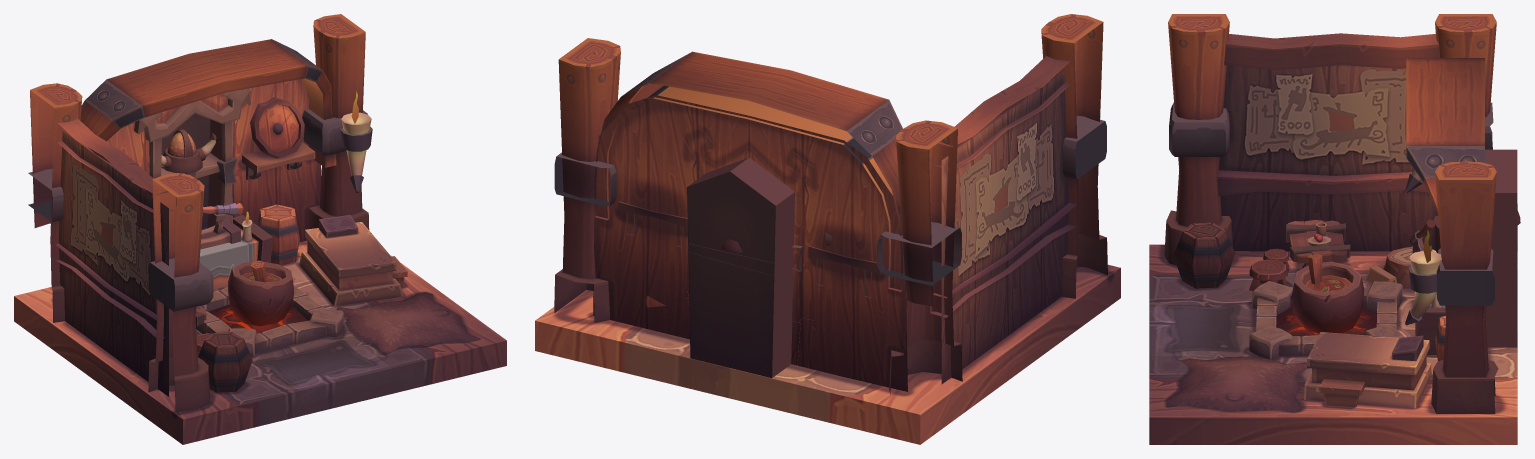
Rendered from Room.obj.
The picture shows the model from 3 angles, left to right: view 1: azimuth 30°, elevation 25°; view 2: azimuth 150°, elevation 25°; view 3: azimuth 270°, elevation 25°; orthographic projection. The views are drawn at different scales.
Parts seen in each view (by area): view 1: vikingroom:mesh_all1; view 2: vikingroom:mesh_all1; view 3: vikingroom:mesh_all1.
Boxes of the visible parts, bbox=[...] form: vikingroom:mesh_all1: bbox=[14, 14, 506, 444]; vikingroom:mesh_all1: bbox=[535, 14, 1120, 444]; vikingroom:mesh_all1: bbox=[1149, 14, 1520, 444].
Bounding box in the file's own units: 10.36 × 7.32 × 9.41.
1 material, 1 textured.
